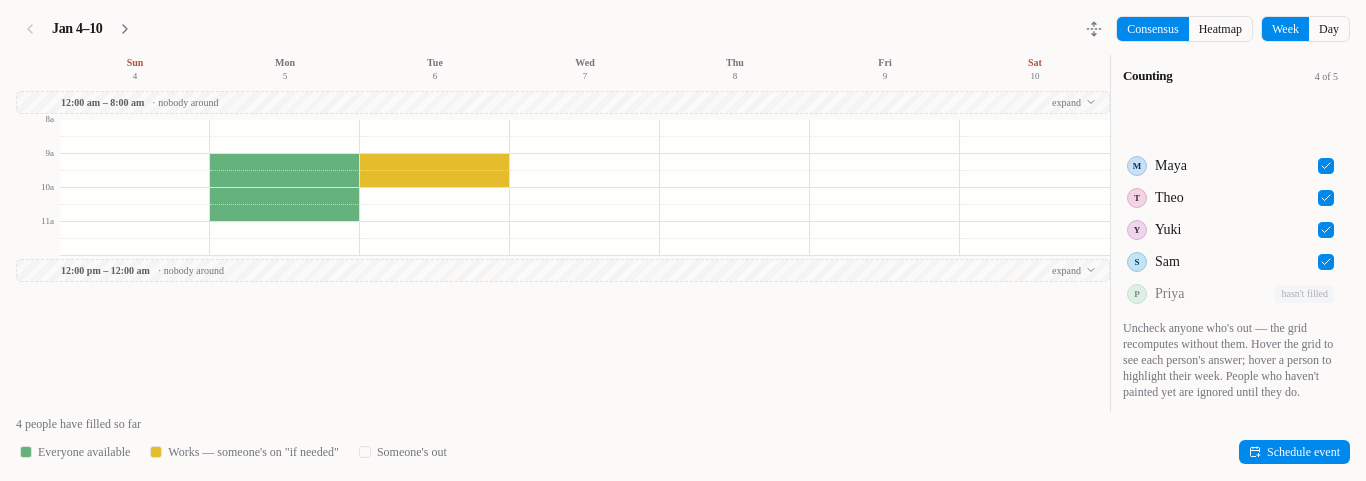
it: TeamTab — deselect recomputes the aggregate › removing the if-needed person turns the Tuesday window all-green and decrements Counting
Step 1. Click the button named "Remove Sam" → x=1326, y=262, box [1318,254,1334,270]
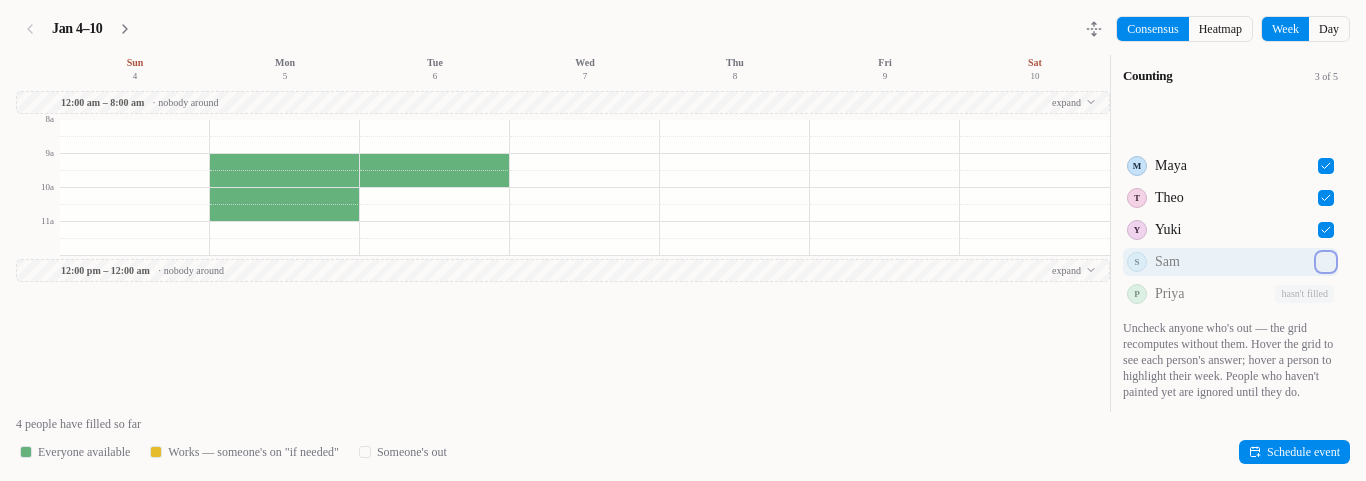
Result: the text "3 of 5" is shown at [1315,70,1338,84]
